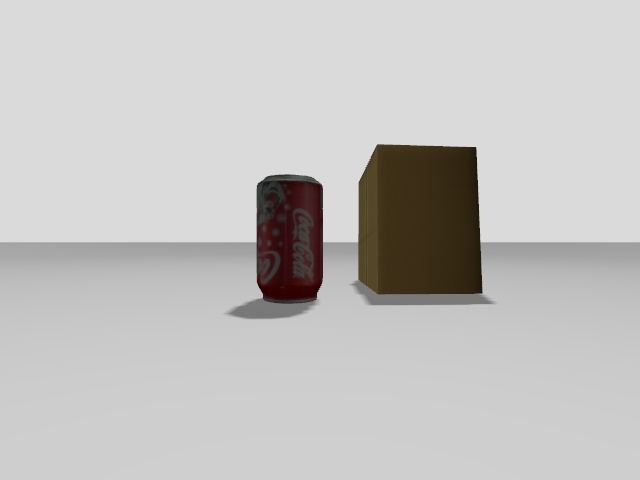canette: (257, 174, 322, 303)
carton: (358, 145, 482, 293)
